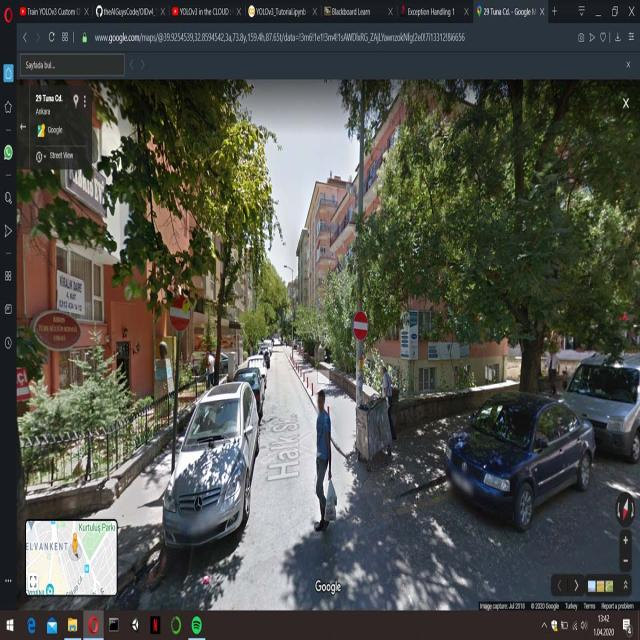girisyok: (169, 292, 191, 332), (353, 311, 369, 340)
